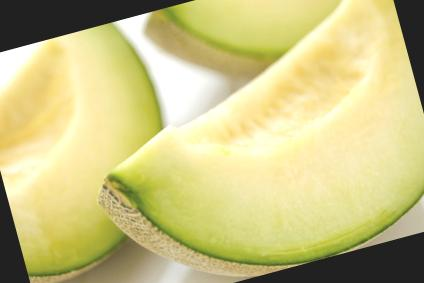Mango Unripe: (59, 0, 424, 283)
